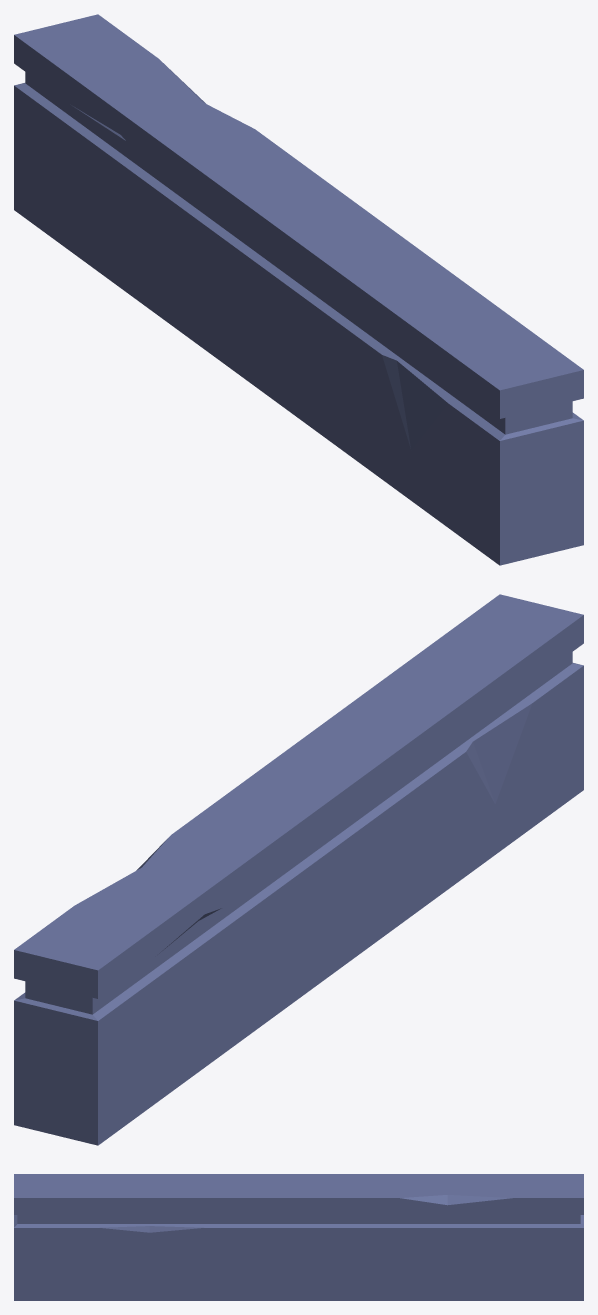
File: wall_2_2.fbx
3 views of the same model, one above another, from view 1: azimuth 30°, elevation 25°; view 2: azimuth 150°, elevation 25°; view 3: azimuth 270°, elevation 25° (orthographic). The views are drawn at different scales.
Visible parts, largest first — view 1: wall_2_2; view 2: wall_2_2; view 3: wall_2_2.
Part boxes in pixels (bbox=[...]): wall_2_2: bbox=[14, 14, 583, 565]; wall_2_2: bbox=[14, 594, 583, 1145]; wall_2_2: bbox=[14, 1174, 583, 1300].
Bounding box in the file's own units: 1 × 1.99 × 10.
